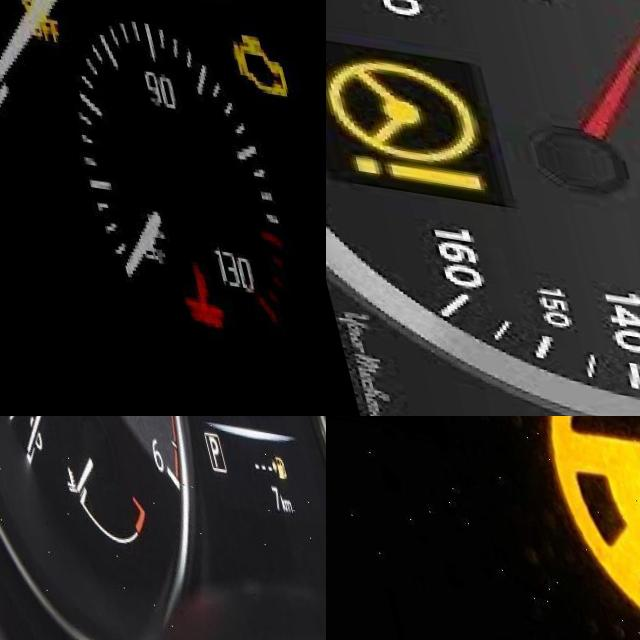Electronic Power Steering: (326, 46, 478, 194)
Electronic Power Steering Warning: (505, 416, 640, 640)
High Engine Coolant Temperature: (146, 246, 212, 326)
